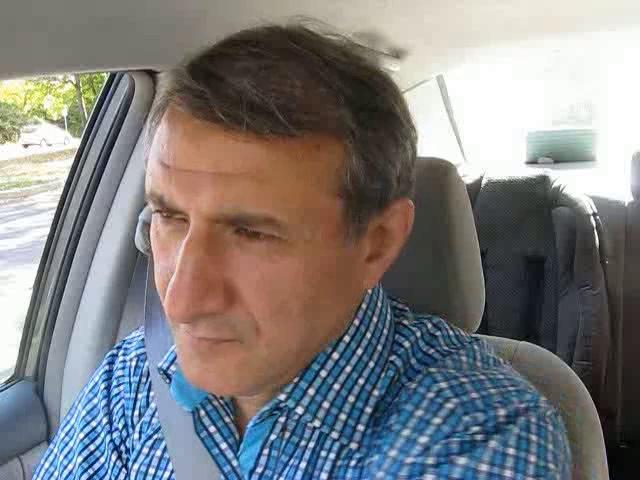close_eyeL: (141, 198, 192, 239)
close_eyeR: (218, 210, 295, 256)
no_yawn: (154, 311, 259, 368)
